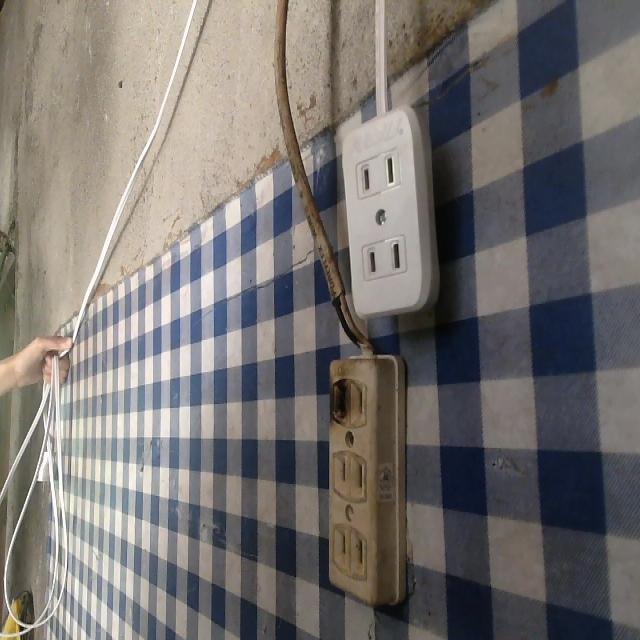-: (320, 371, 356, 428)
